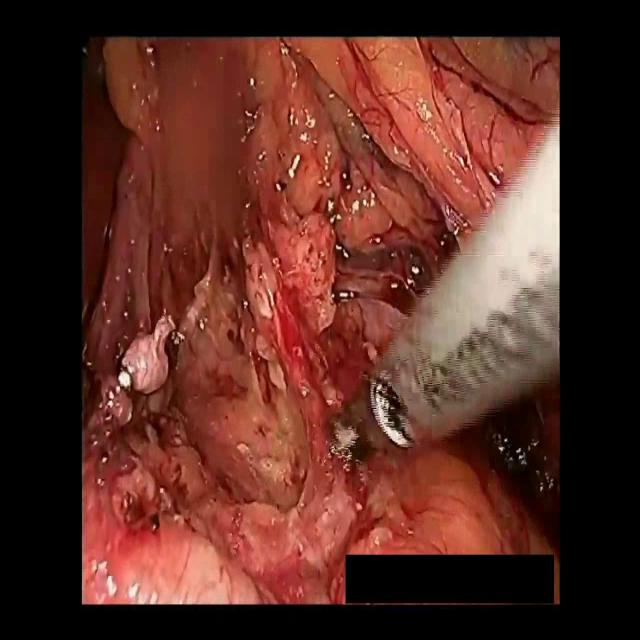surgical-area: (80, 29, 561, 604)
surgical-tool: (345, 108, 561, 467)
